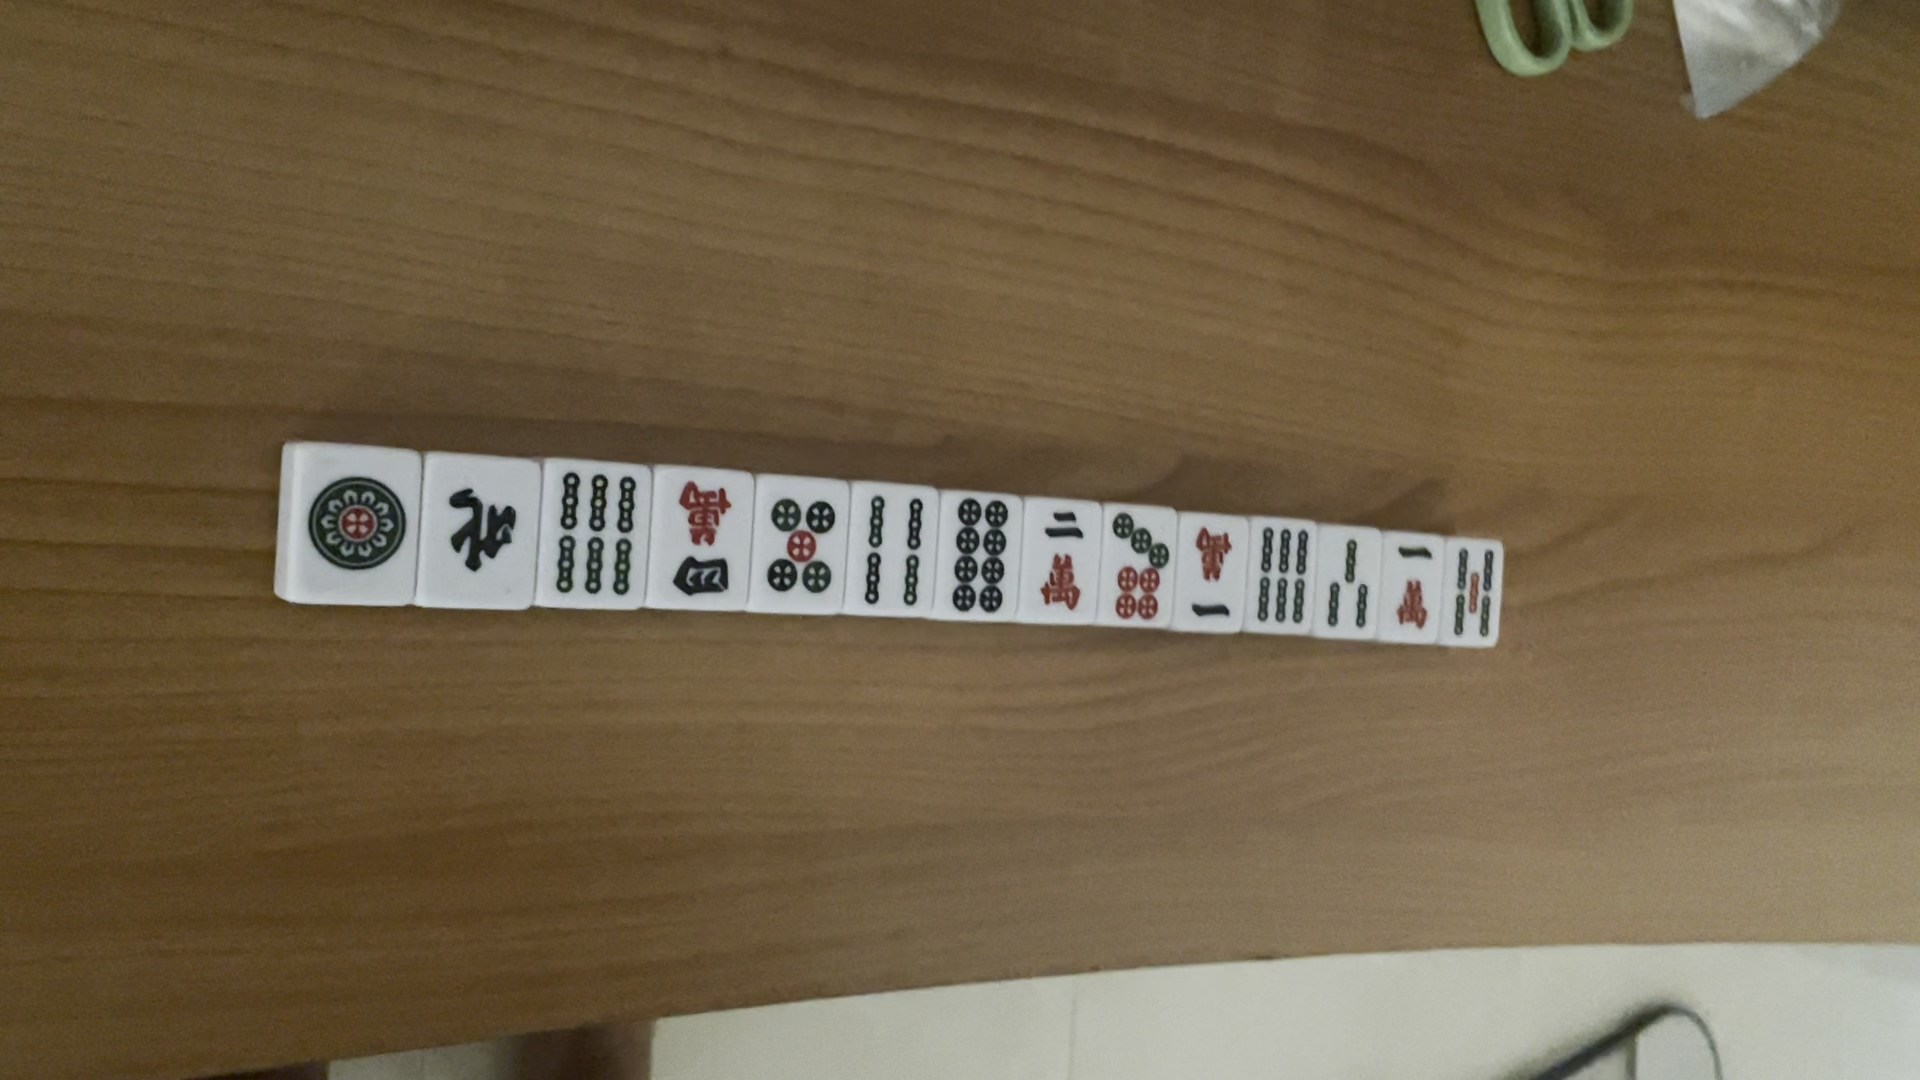b-3: (1319, 530, 1378, 637)
b-4: (860, 491, 925, 606)
b-5: (1451, 540, 1500, 641)
b-6: (549, 469, 641, 602), (1248, 518, 1311, 634)
c-1: (1180, 527, 1238, 628), (1381, 537, 1439, 638)
c-2: (1036, 506, 1090, 615)
c-4: (668, 477, 736, 602)
d-1: (302, 457, 409, 583)
d-5: (760, 489, 838, 598)
d-7: (1104, 506, 1171, 624)
d-8: (947, 496, 1012, 617)
honors-north: (438, 483, 528, 579)
